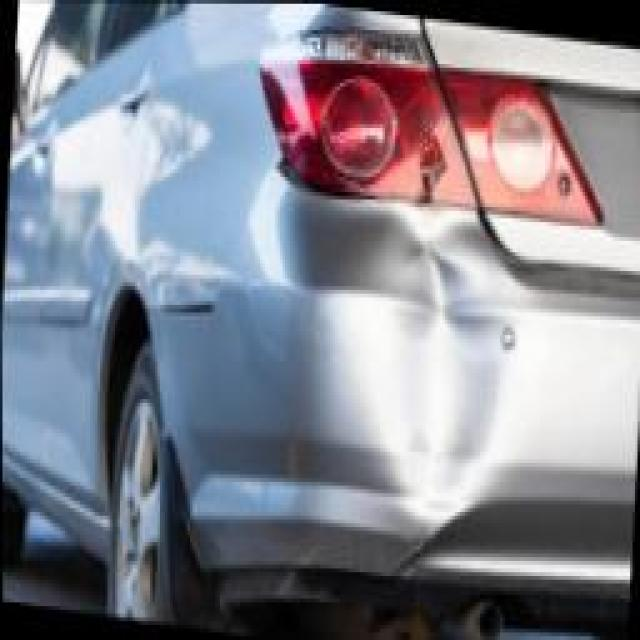Bumper: (155, 173, 522, 568), (262, 15, 463, 216)
